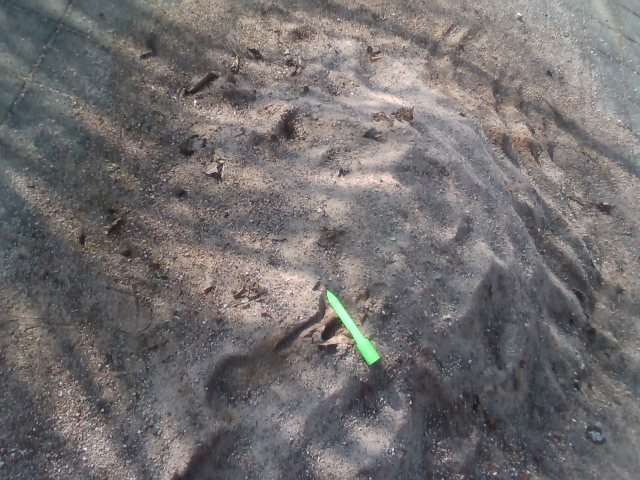Probe: (320, 281, 389, 377)
